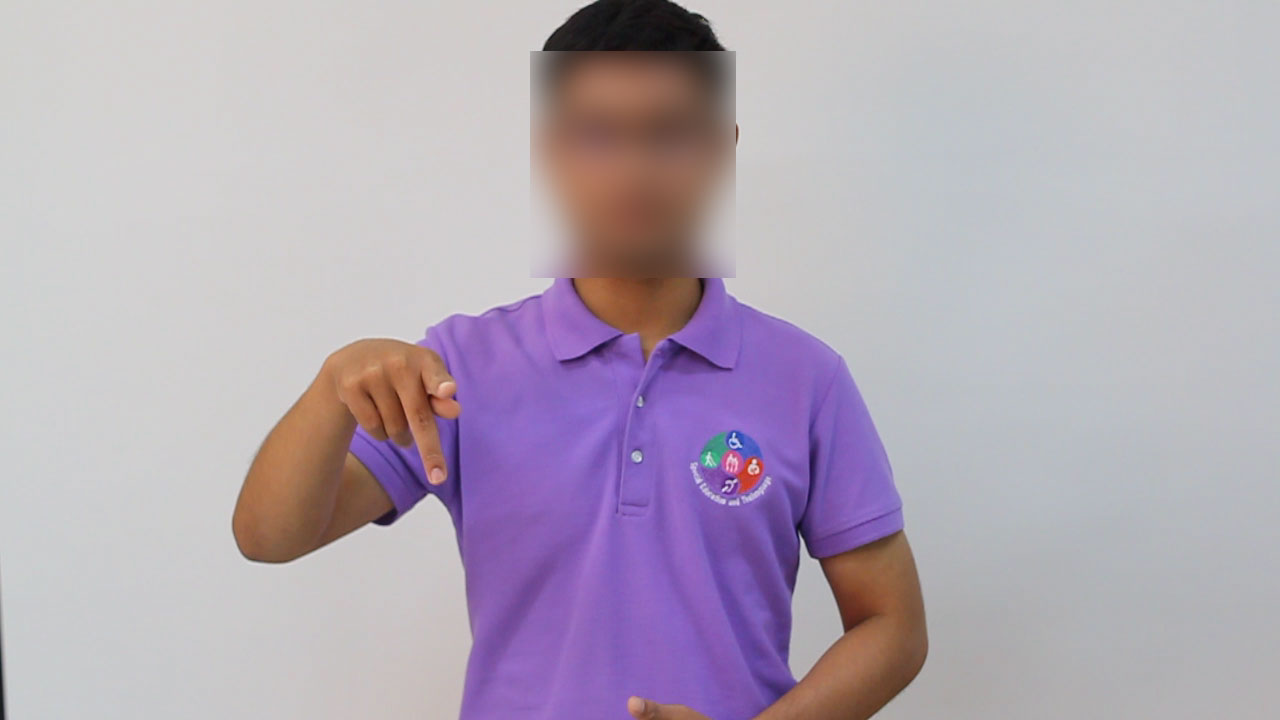por: (306, 316, 472, 496)
